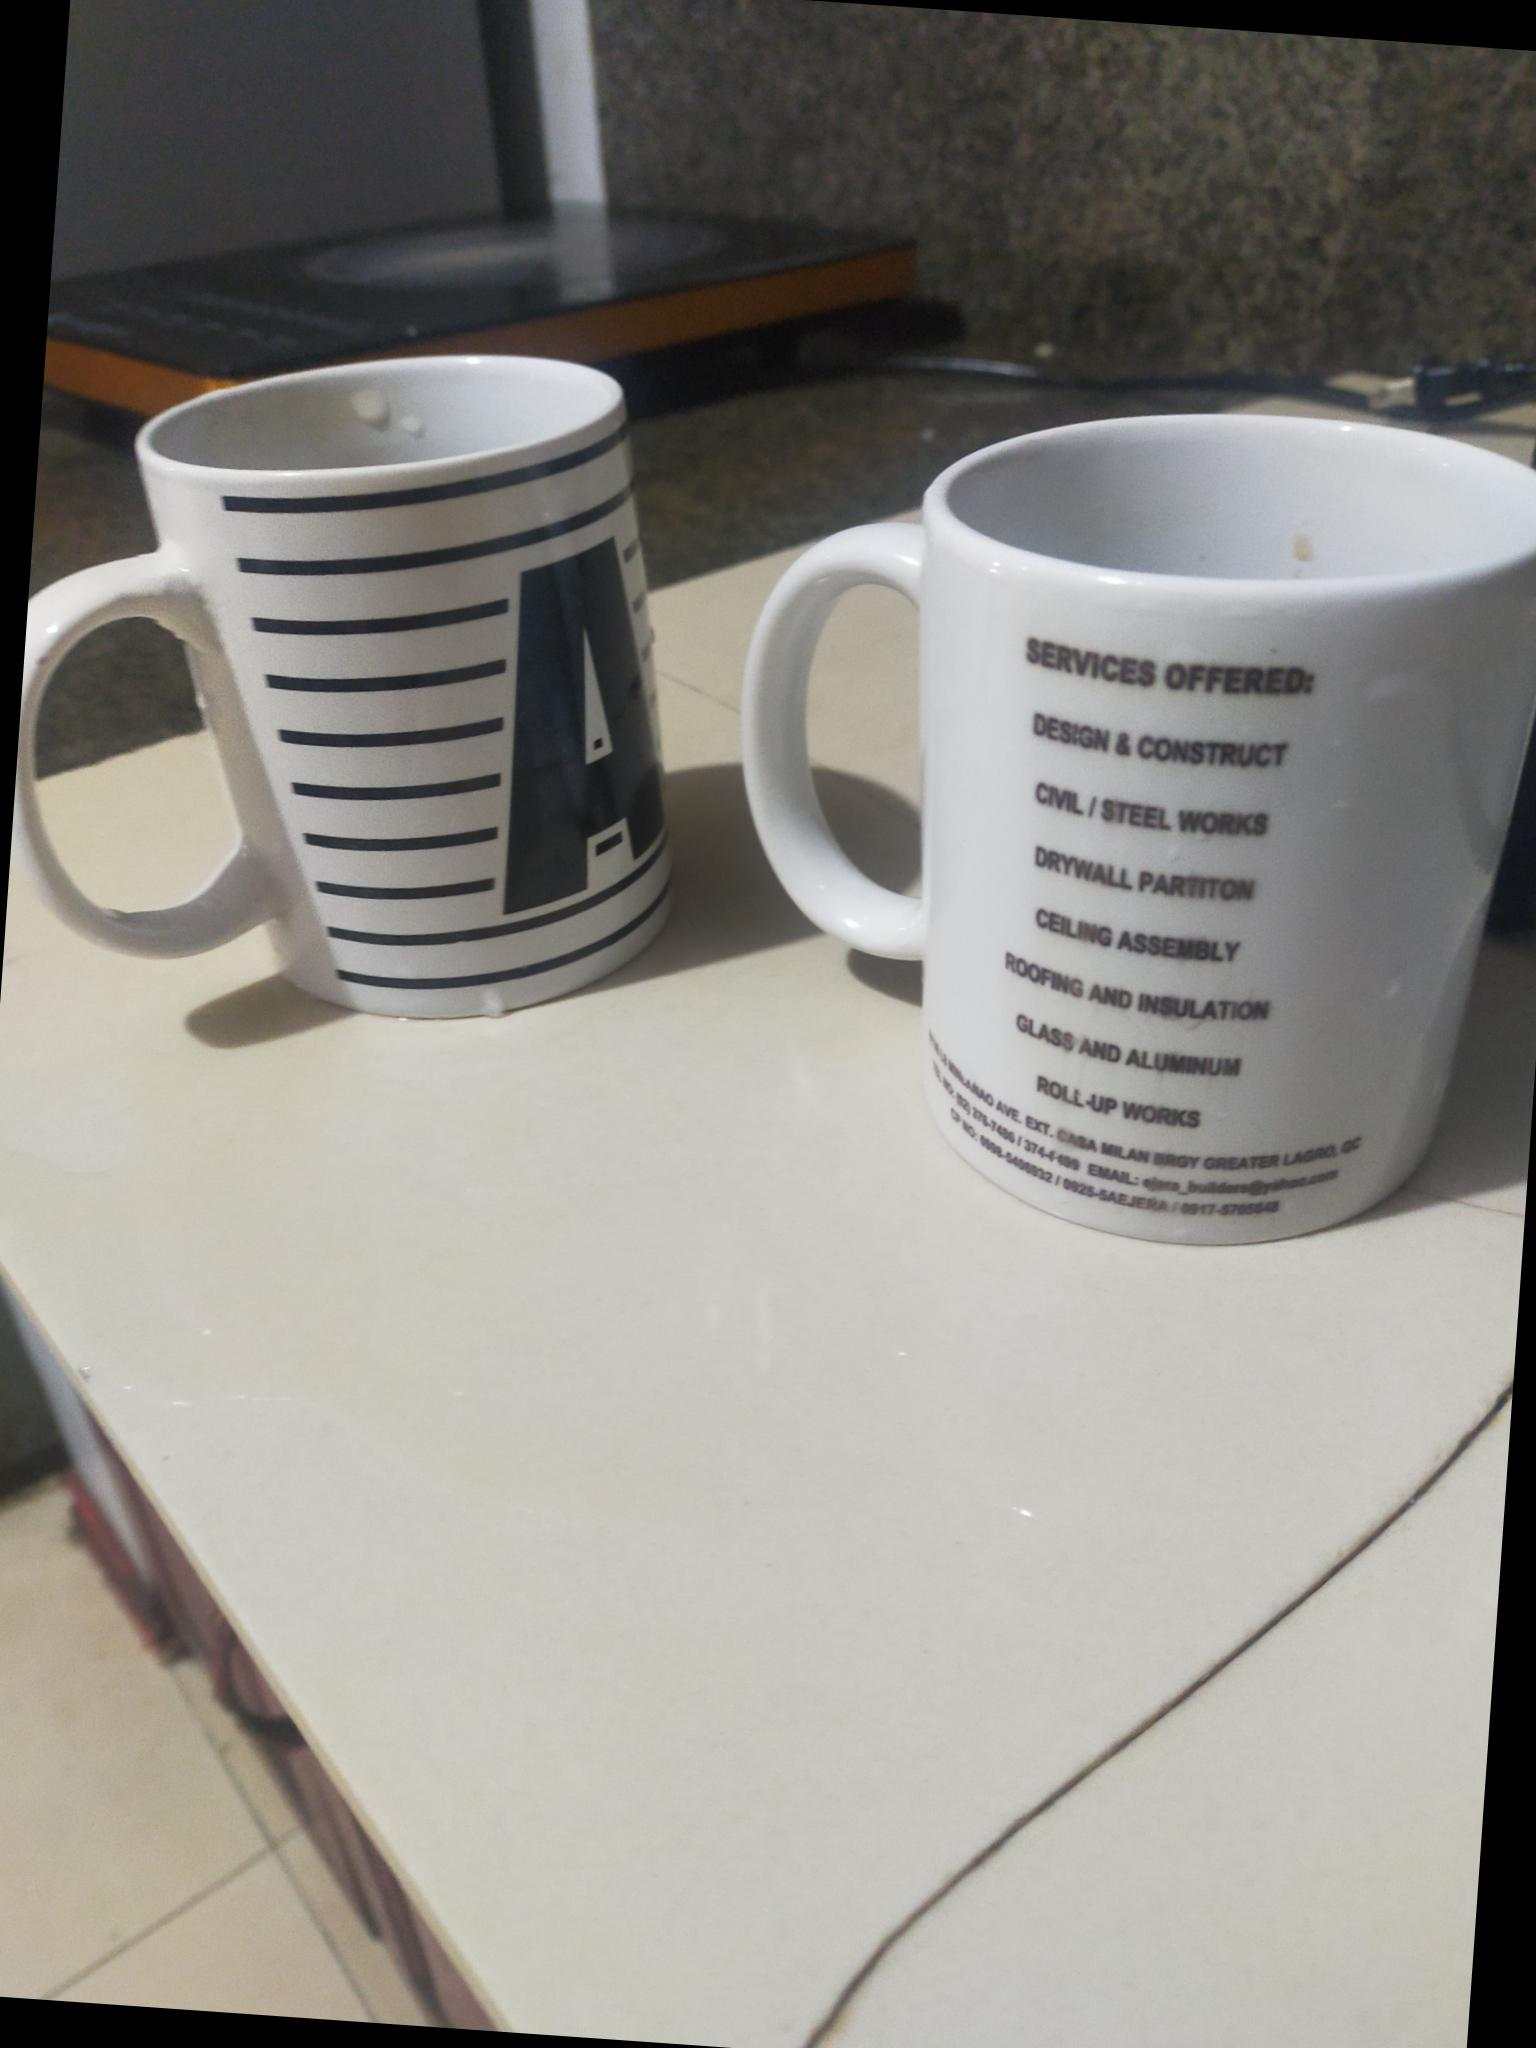Coffee Mug: (715, 384, 1536, 1269), (11, 321, 713, 1040)
